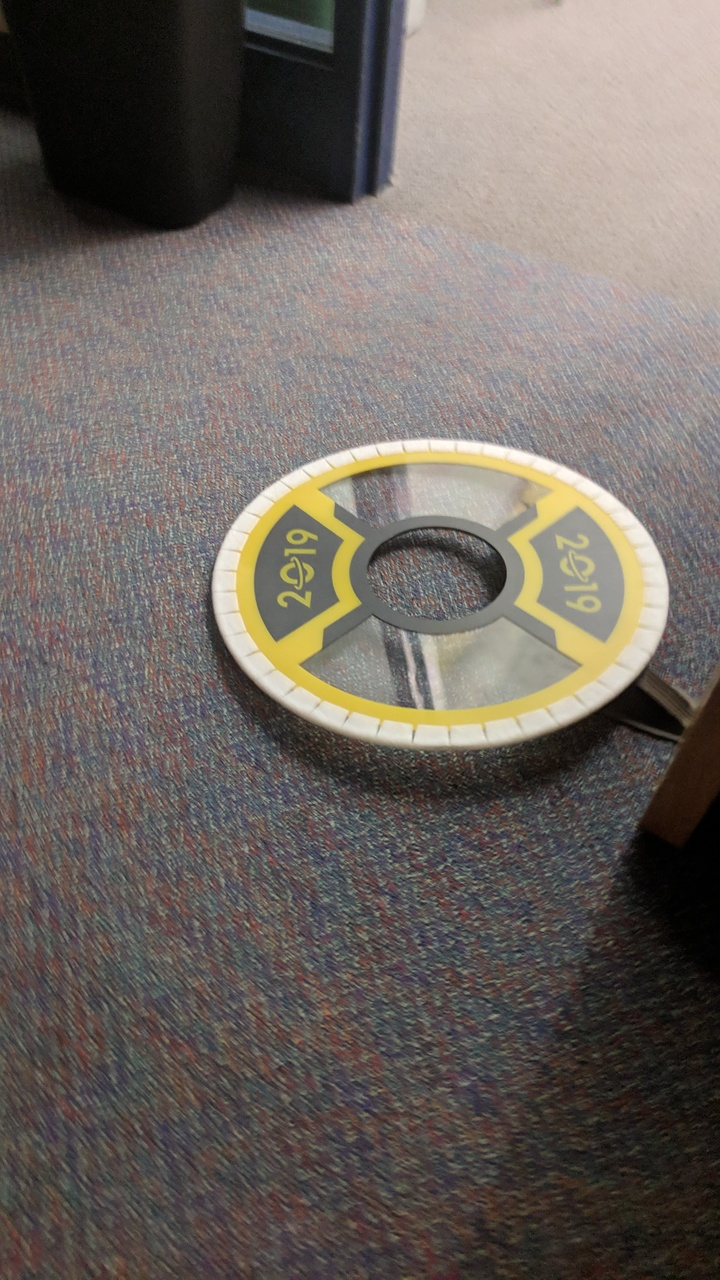hatch_panel: (205, 435, 671, 755)
